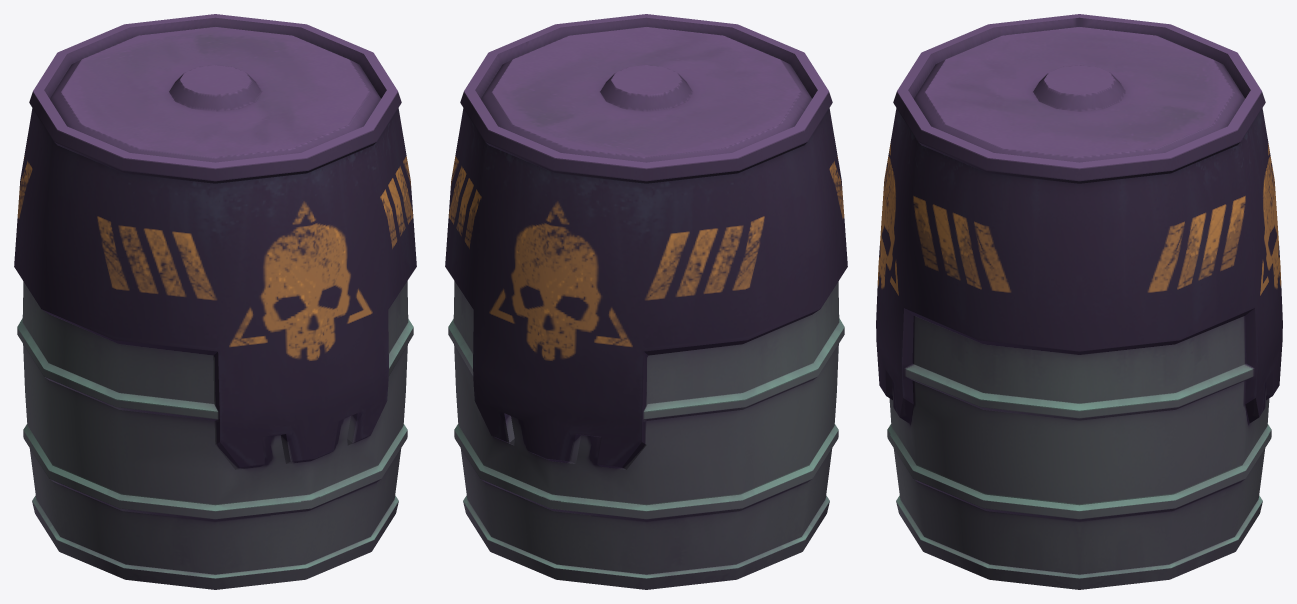
Rendered from Barrel_Explosive.glb.
The picture shows the model from 3 angles, left to right: view 1: azimuth 30°, elevation 25°; view 2: azimuth 150°, elevation 25°; view 3: azimuth 270°, elevation 25°; orthographic projection.
Parts seen in each view (by area): view 1: Cylinder.009; view 2: Cylinder.009; view 3: Cylinder.009.
Boxes of the visible parts, bbox=[...] form: Cylinder.009: bbox=[14, 14, 416, 589]; Cylinder.009: bbox=[445, 14, 847, 589]; Cylinder.009: bbox=[876, 14, 1282, 589].
Size of the model in its own units: 0.7047 by 0.8384 by 0.7128.
1 material, 1 textured.
